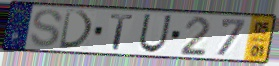2: (179, 15, 211, 57)
7: (217, 16, 248, 58)
D: (57, 8, 95, 50)
S: (28, 8, 64, 50)
T: (109, 13, 135, 51)
U: (137, 13, 174, 54)
